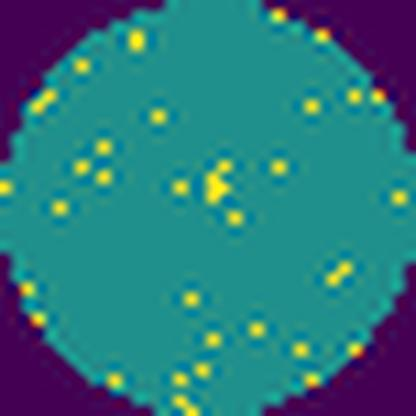Center: (200, 151, 237, 204)
